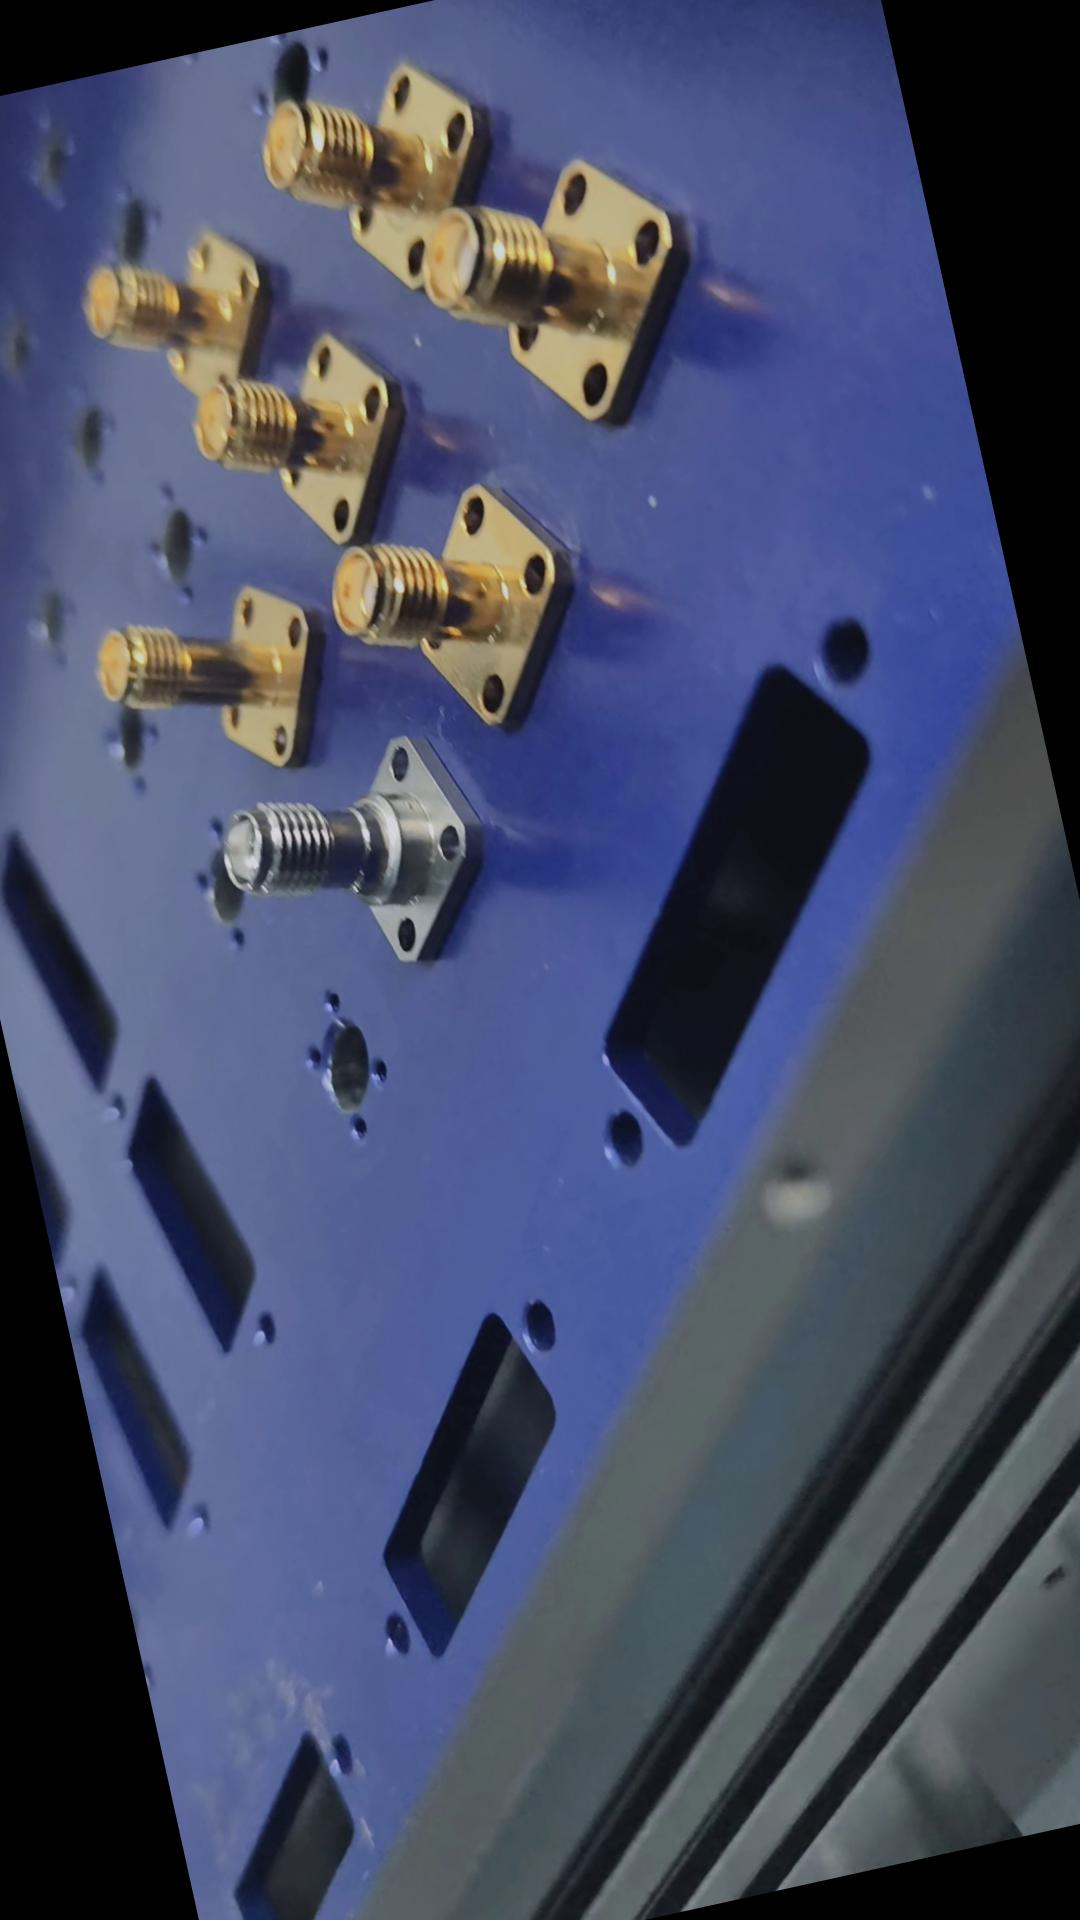SMA: (401, 140, 708, 455), (307, 446, 595, 758), (200, 705, 504, 1000), (167, 301, 425, 582), (76, 562, 345, 810)
